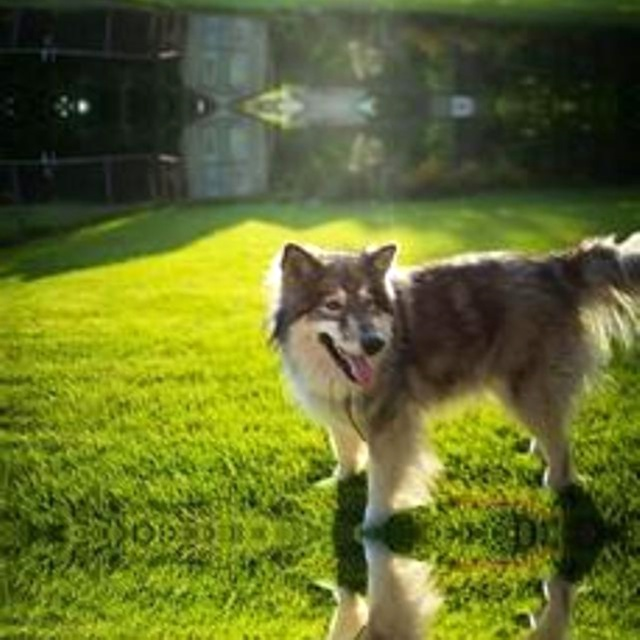dog: (258, 201, 632, 523), (258, 544, 632, 640), (258, 0, 632, 11)
